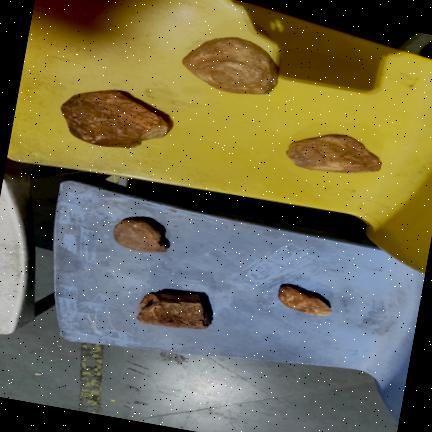Rocks: (60, 89, 168, 147), (182, 37, 277, 93), (286, 134, 381, 172), (136, 292, 210, 328), (112, 218, 166, 252), (277, 285, 330, 314)
